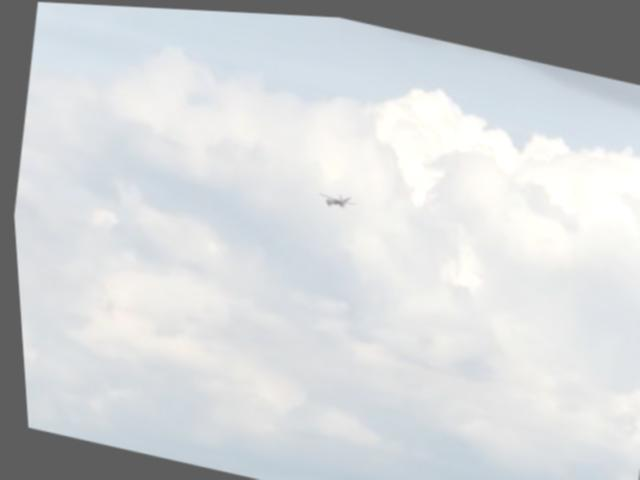uav: (314, 183, 356, 209)
